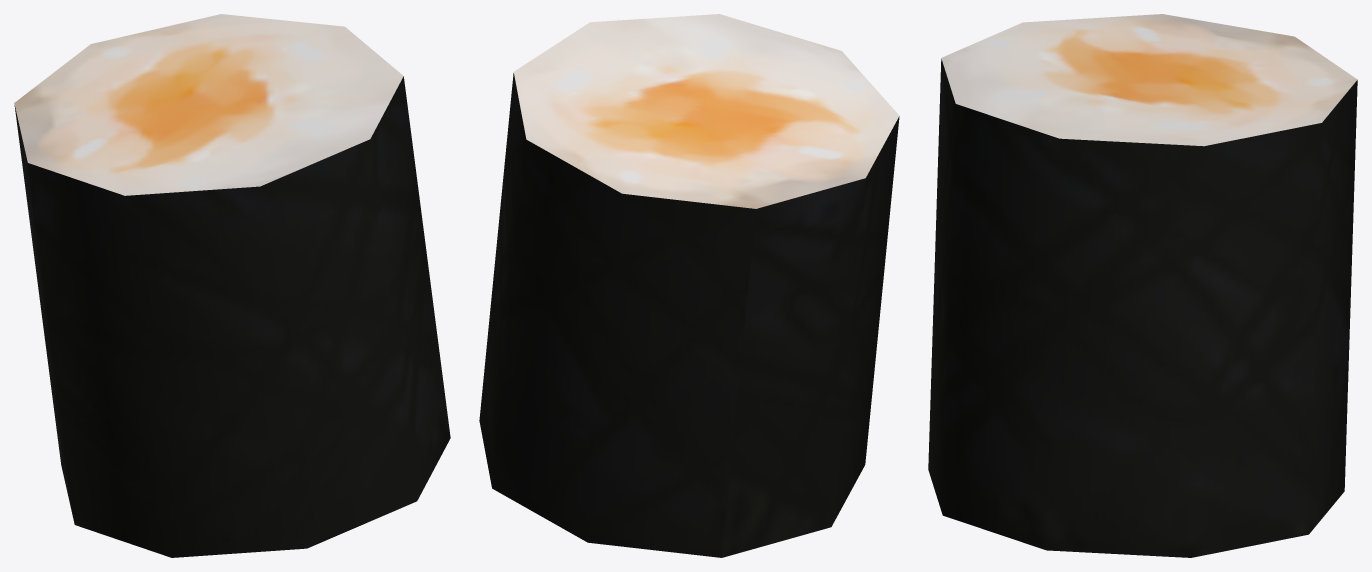
Rendered from SushiHand.fbx.
3 renders of one model, left to right at view 1: azimuth 30°, elevation 25°; view 2: azimuth 150°, elevation 25°; view 3: azimuth 270°, elevation 25°, orthographic. The views are drawn at different scales.
Visible parts, largest first — view 1: SushiHand; view 2: SushiHand; view 3: SushiHand.
Part boxes in pixels (box(x1,y1,x2,y2)): SushiHand: box(14, 14, 450, 557); SushiHand: box(479, 14, 899, 557); SushiHand: box(928, 14, 1357, 557).
Size of the model in its own units: 12.42 by 12.9 by 11.52.
